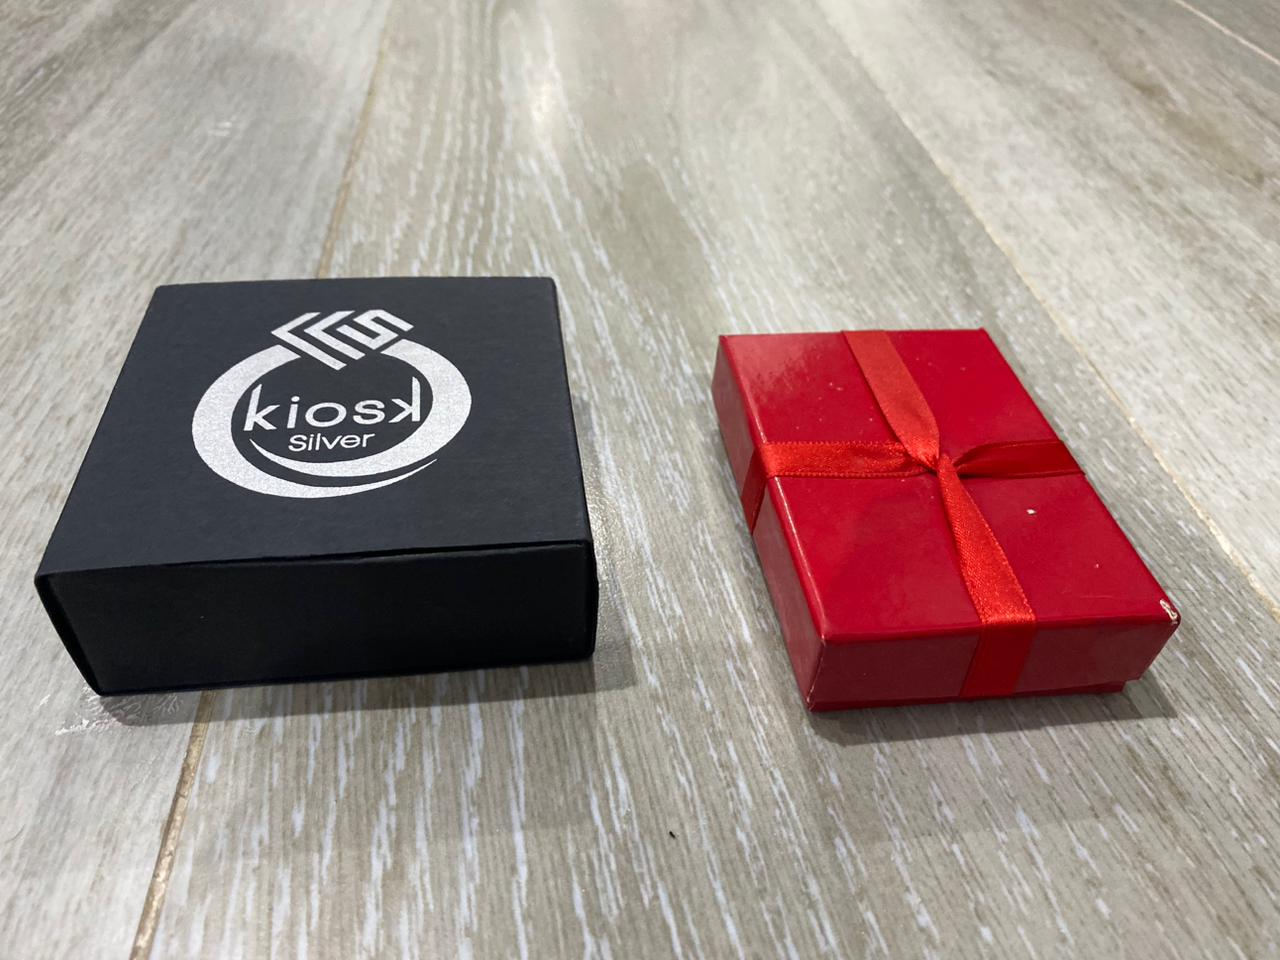Black Box: (708, 322, 1194, 724)
Red Box: (25, 272, 614, 709)
